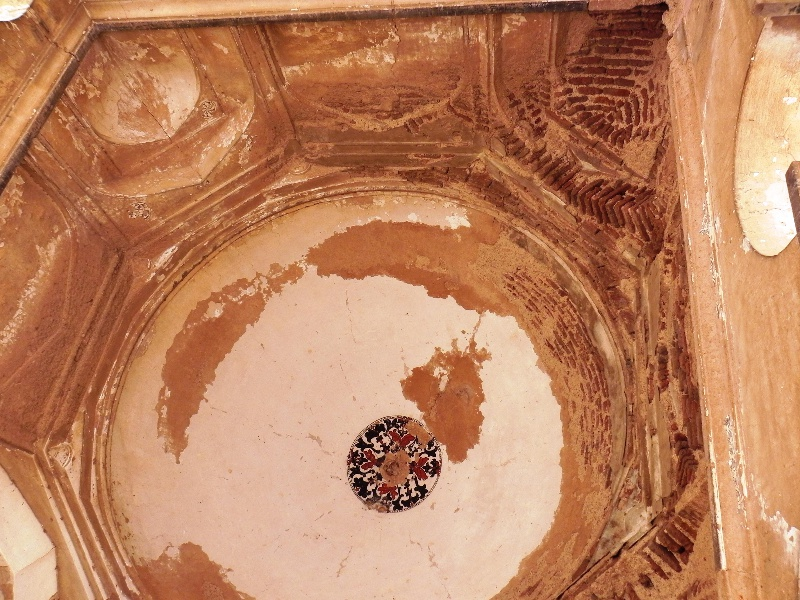Exposed Bricks: (492, 10, 670, 244), (510, 275, 626, 458)
Spalling: (146, 255, 309, 468)
